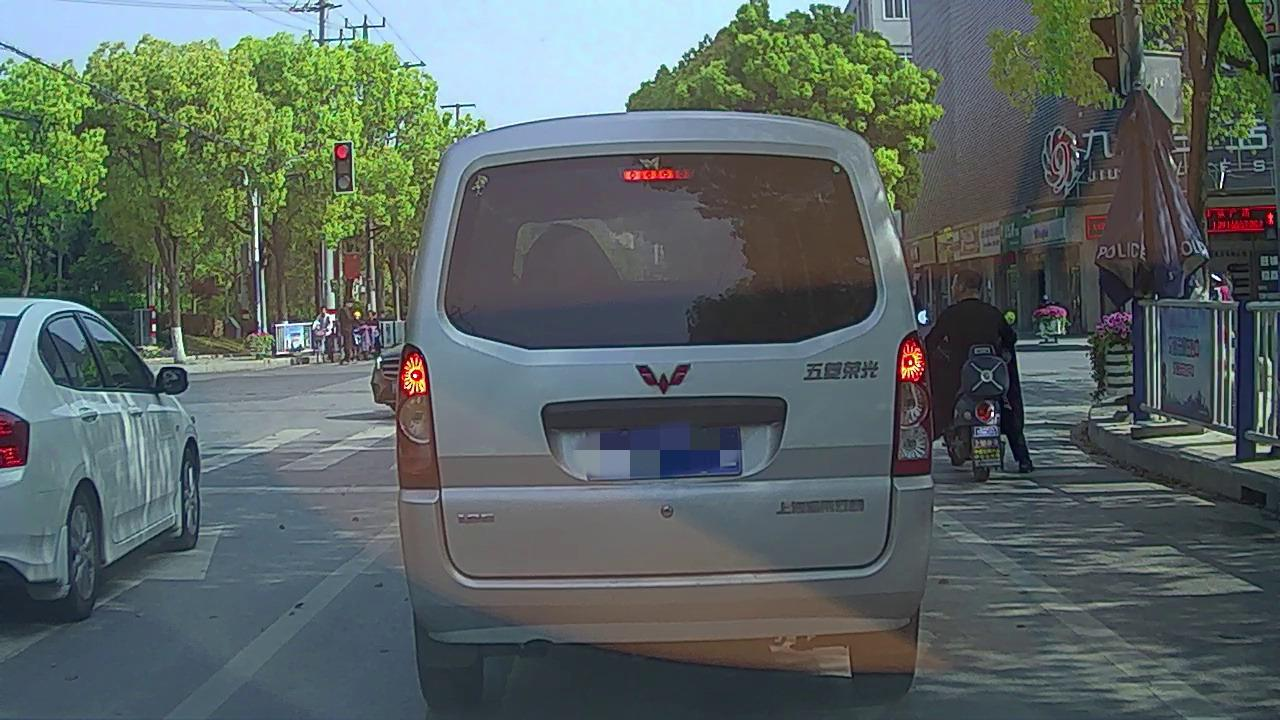traffic_light: (334, 143, 353, 191)
